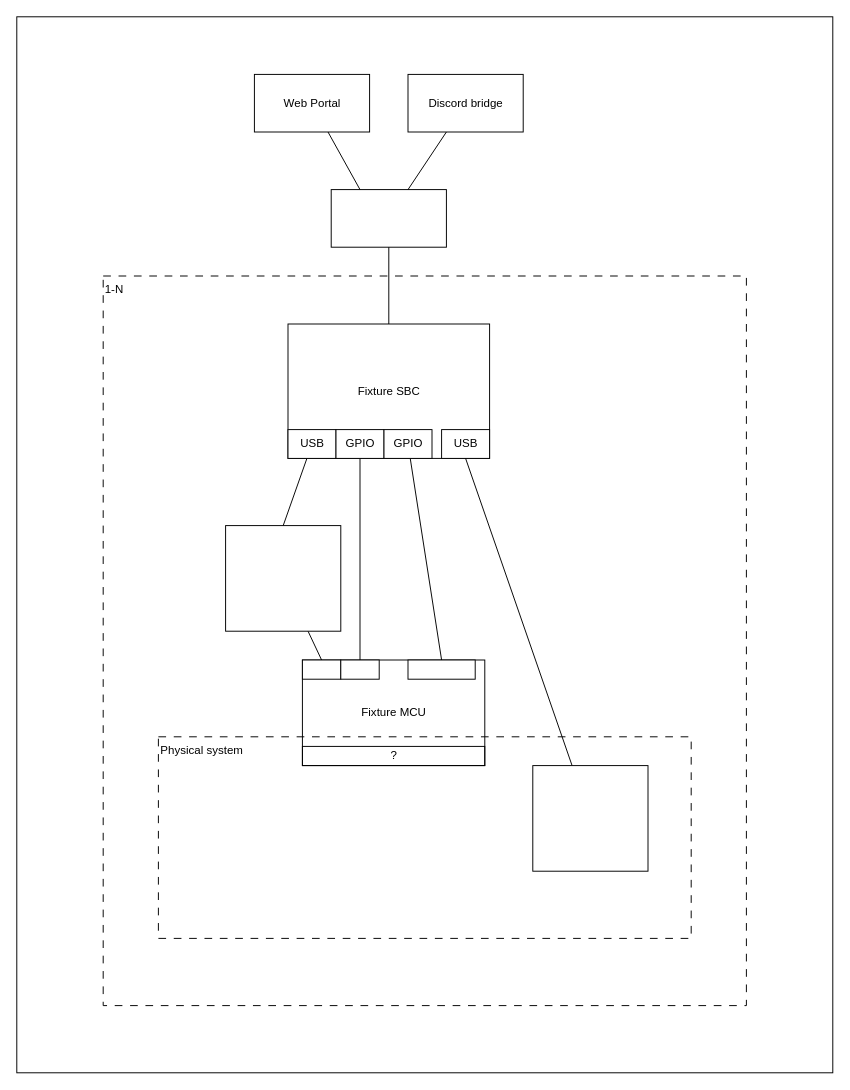
This 850x1090 diagram has some shape labels left out. The centre of each missing label's shape, as x and y in pixels:
"RST" belongs at (359,669).
"Stimulation" belongs at (441,669).
"SWD" belongs at (321,669).
"SWD USB adaptor" belongs at (283,578).
"Web Node" belongs at (388,218).
"Webcam? Microphone?" belongs at (590,818).
